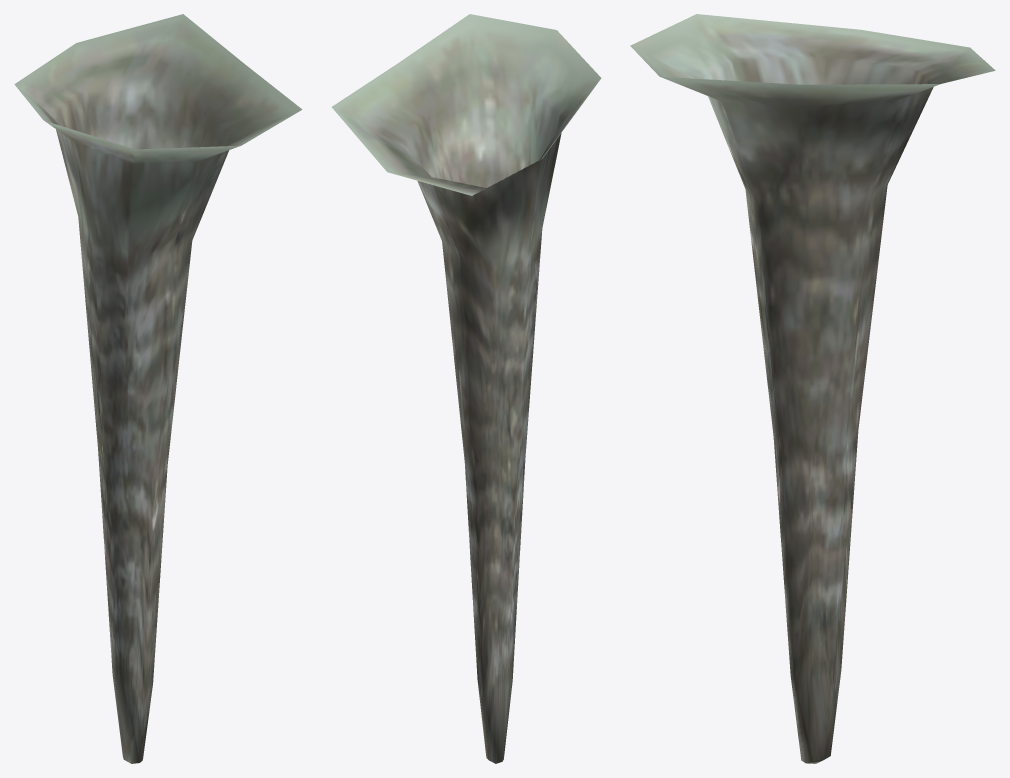
Rendered from TROLLHOLE02_PS-MAINSTALAG15.fbx.
The picture shows the model from 3 angles, left to right: view 1: azimuth 30°, elevation 25°; view 2: azimuth 150°, elevation 25°; view 3: azimuth 270°, elevation 25°; orthographic projection. The views are drawn at different scales.
Parts seen in each view (by area): view 1: TROLLHOLE02_PS-MAINSTALAG15; view 2: TROLLHOLE02_PS-MAINSTALAG15; view 3: TROLLHOLE02_PS-MAINSTALAG15.
Part boxes in pixels (x1,y1,x2,y2): TROLLHOLE02_PS-MAINSTALAG15: [14, 14, 302, 763]; TROLLHOLE02_PS-MAINSTALAG15: [332, 14, 601, 763]; TROLLHOLE02_PS-MAINSTALAG15: [630, 14, 995, 763].
Size of the model in its own units: 13150 by 48415 by 21714.
Materials: 1 (1 with a texture image).
